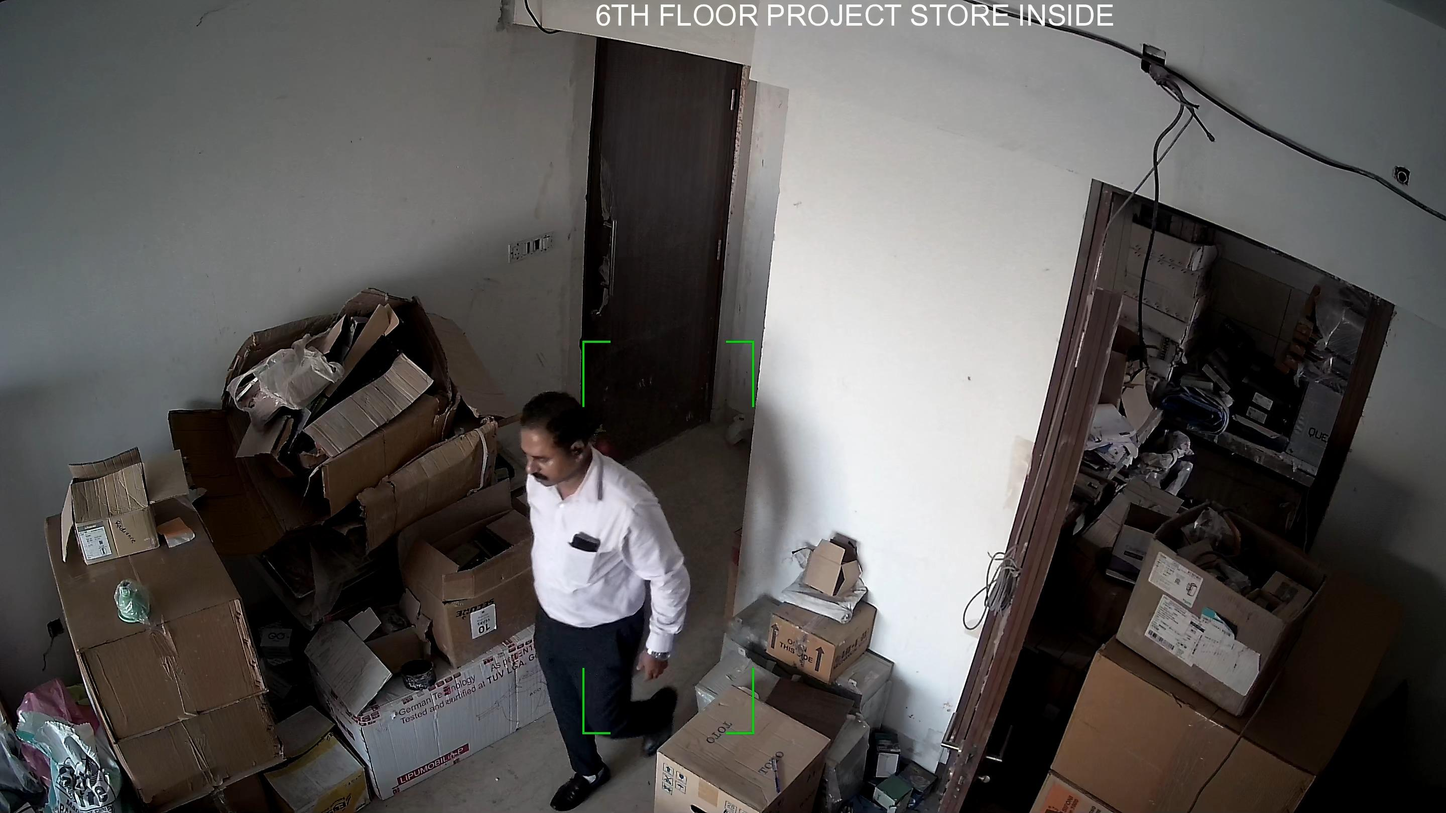Door-Close: (570, 37, 742, 464)
